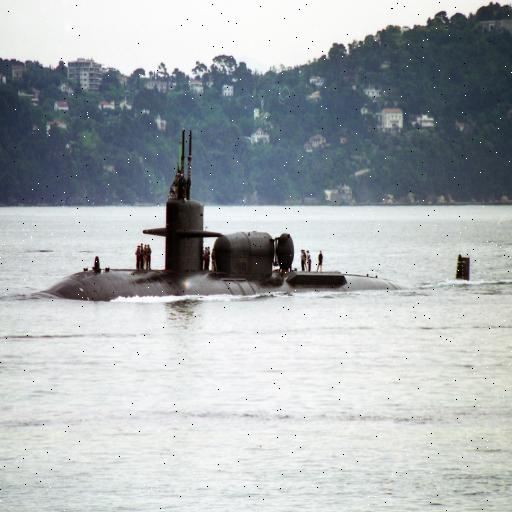submarine: (37, 118, 483, 300)
